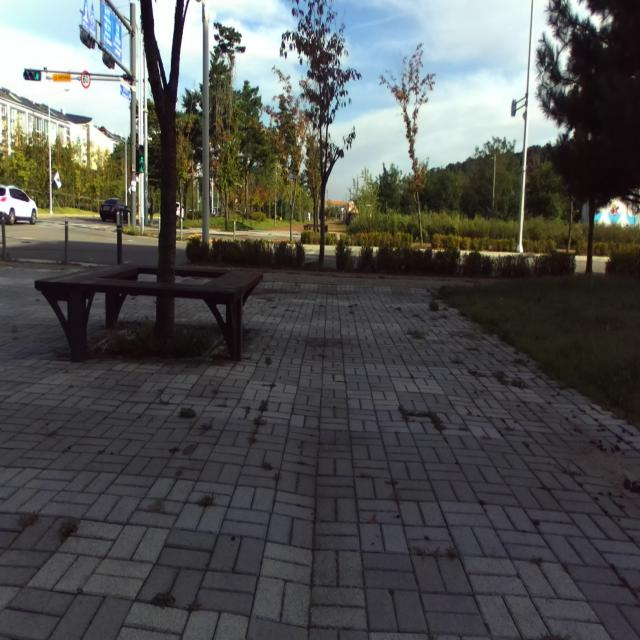초록불: (138, 144, 144, 172)
